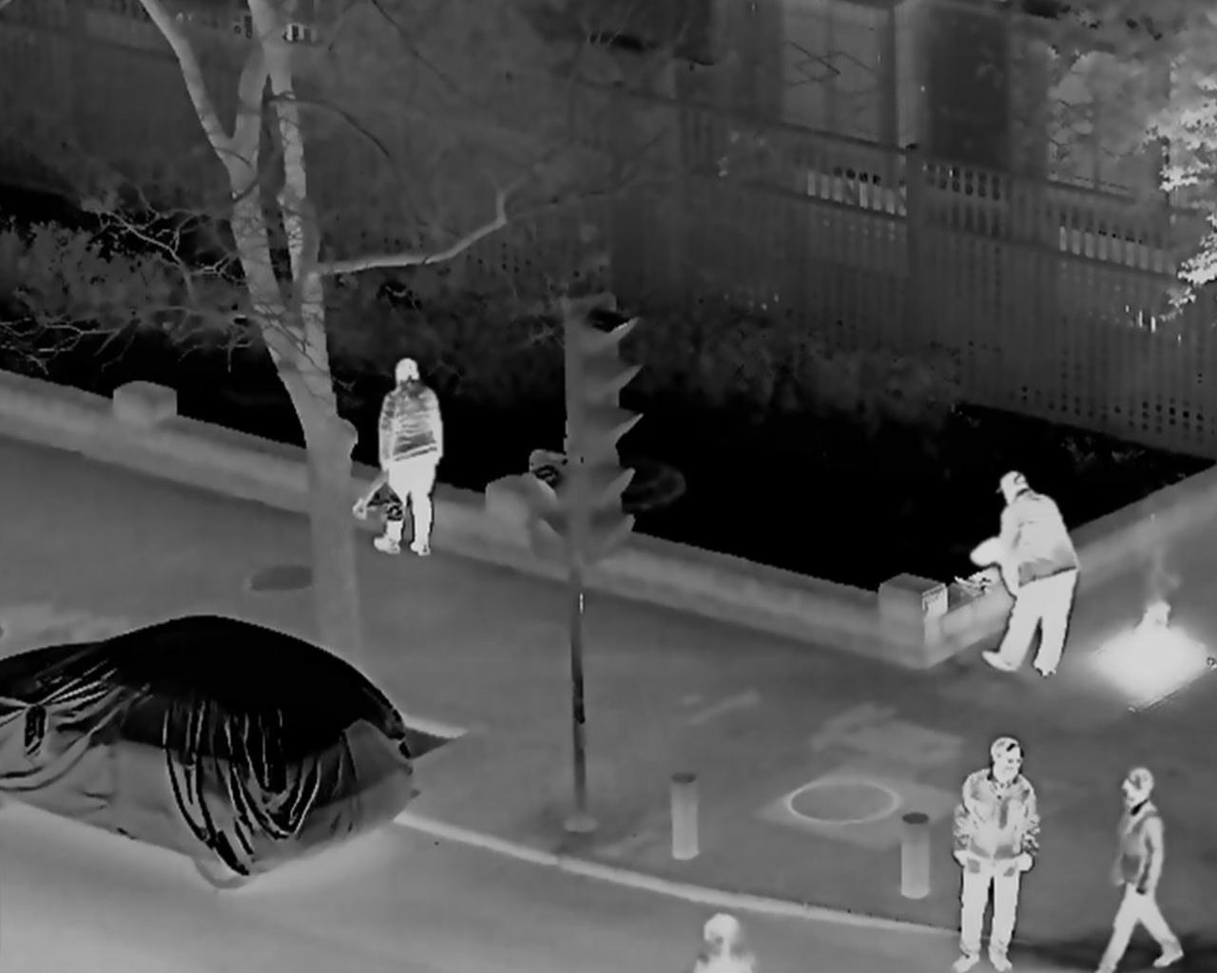person: (947, 731, 1039, 973), (968, 467, 1074, 677), (970, 469, 1076, 678), (1094, 766, 1185, 973), (369, 358, 441, 561), (688, 906, 753, 973)
